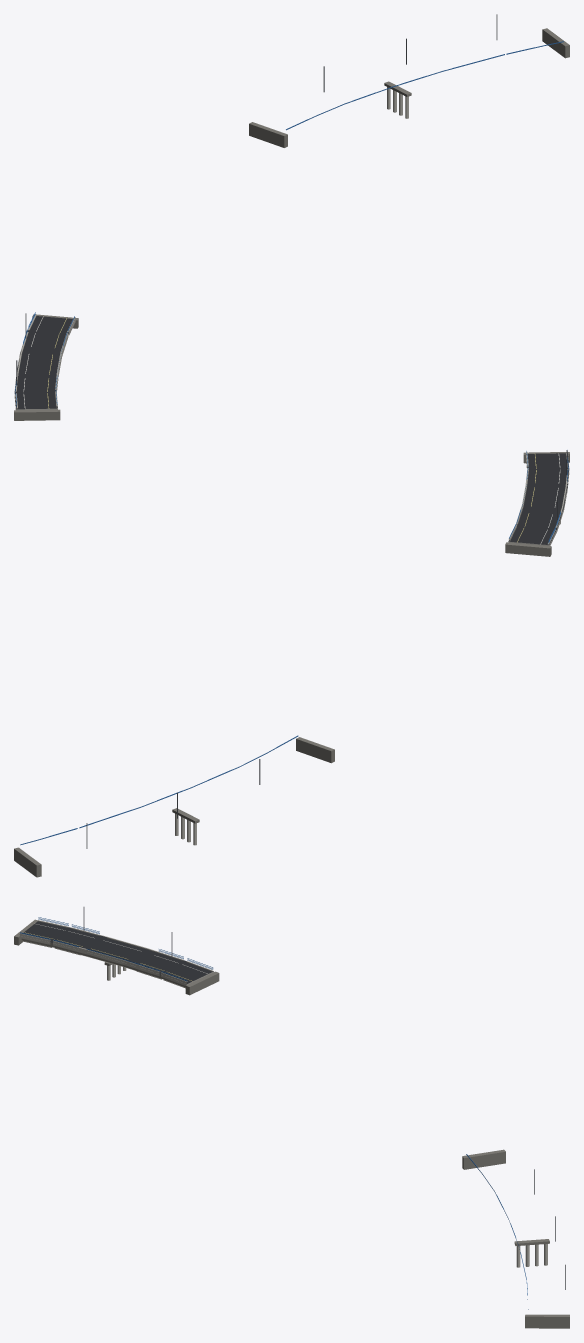
Rendered from br_h52_sherwood_park_2_lod1.gltf.
3 renders of one model, top to bottom at view 1: azimuth 30°, elevation 25°; view 2: azimuth 210°, elevation 25°; view 3: azimuth 270°, elevation 25°, orthographic. The views are drawn at different scales.
Visible parts, largest first — view 1: br_h52_sherwood_park_2_lod1; view 2: br_h52_sherwood_park_2_lod1; view 3: br_h52_sherwood_park_2_lod1.
Part boxes in pixels (<box>): br_h52_sherwood_park_2_lod1: <box>14,14,569,420</box>; br_h52_sherwood_park_2_lod1: <box>14,450,569,877</box>; br_h52_sherwood_park_2_lod1: <box>14,907,569,1328</box>.
Bounding box in the file's own units: 309 × 26.32 × 190.
